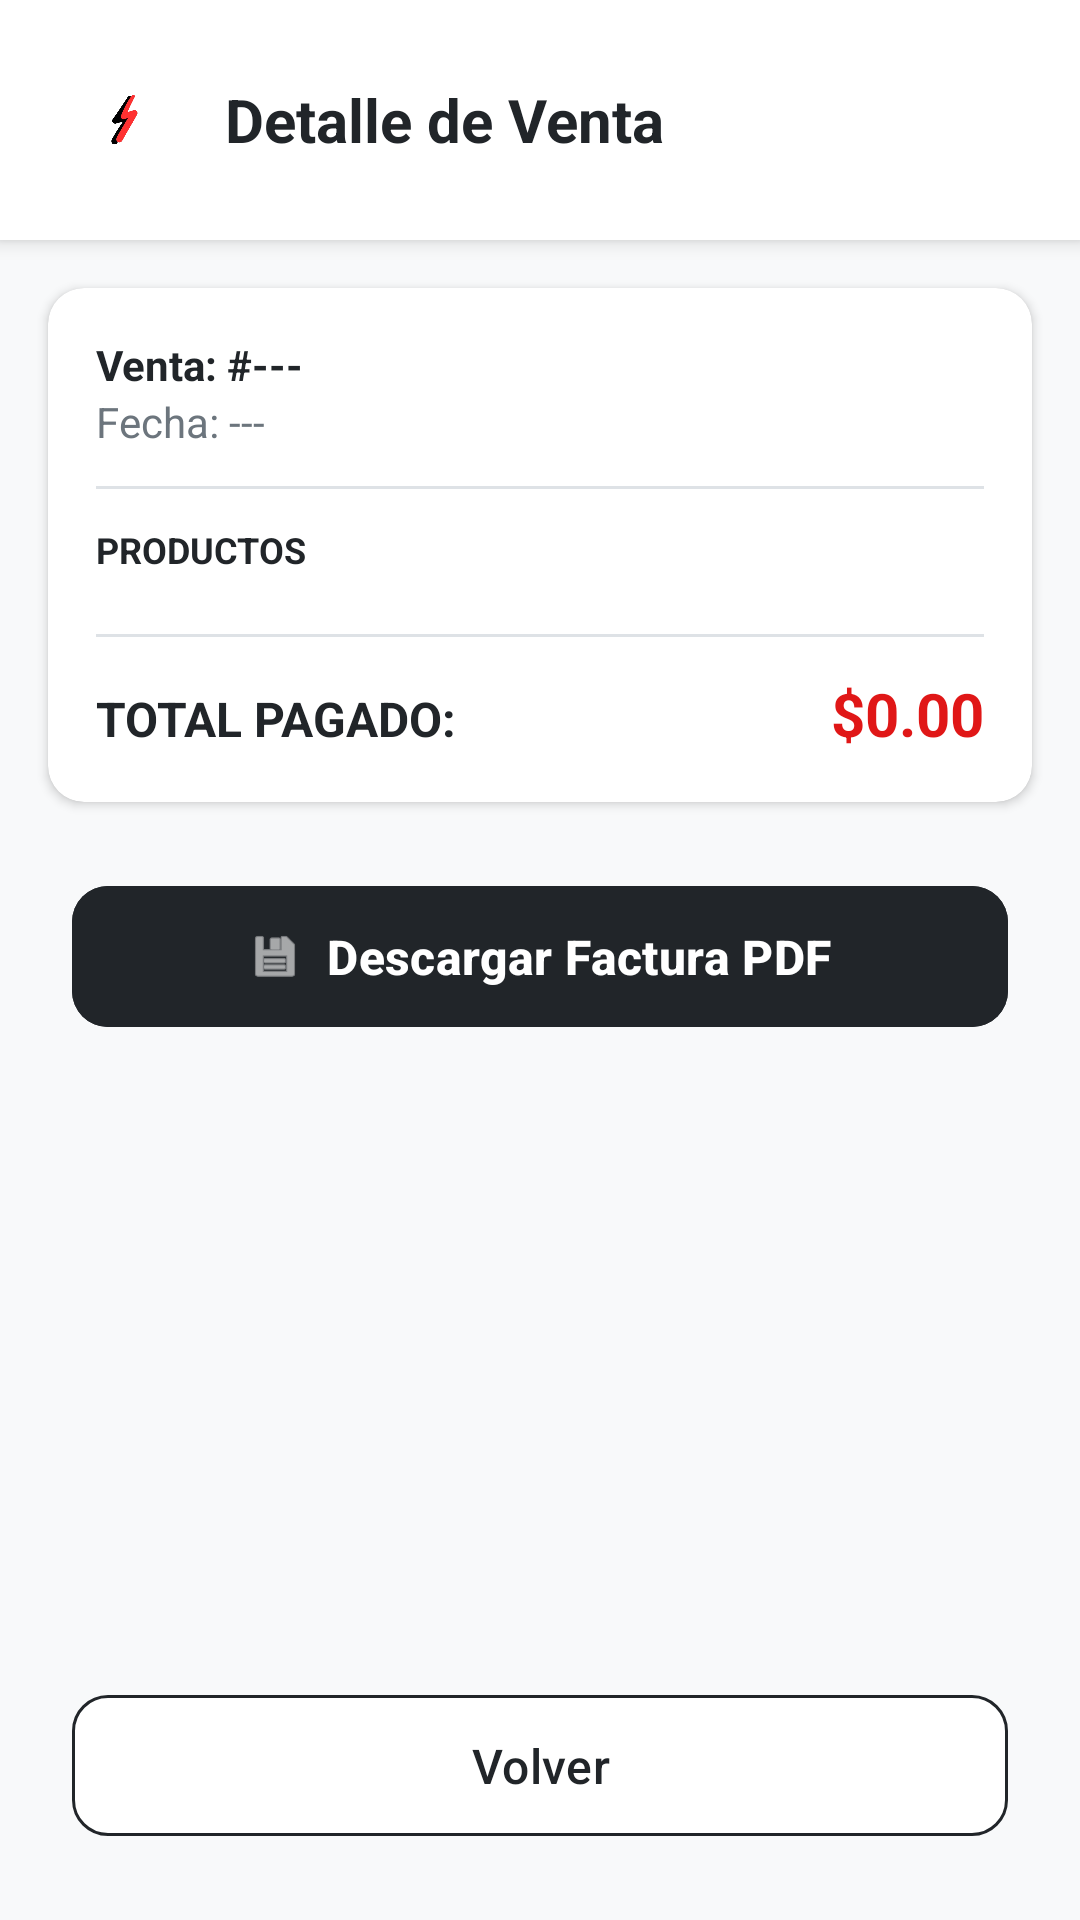

Point at icon controls on the screen. Image size 1080px×1920px, points as point (x, y).
rayitoimpulse: point (124, 119)
